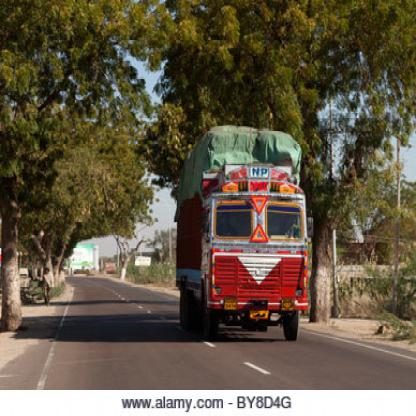truck: (176, 126, 307, 345)
